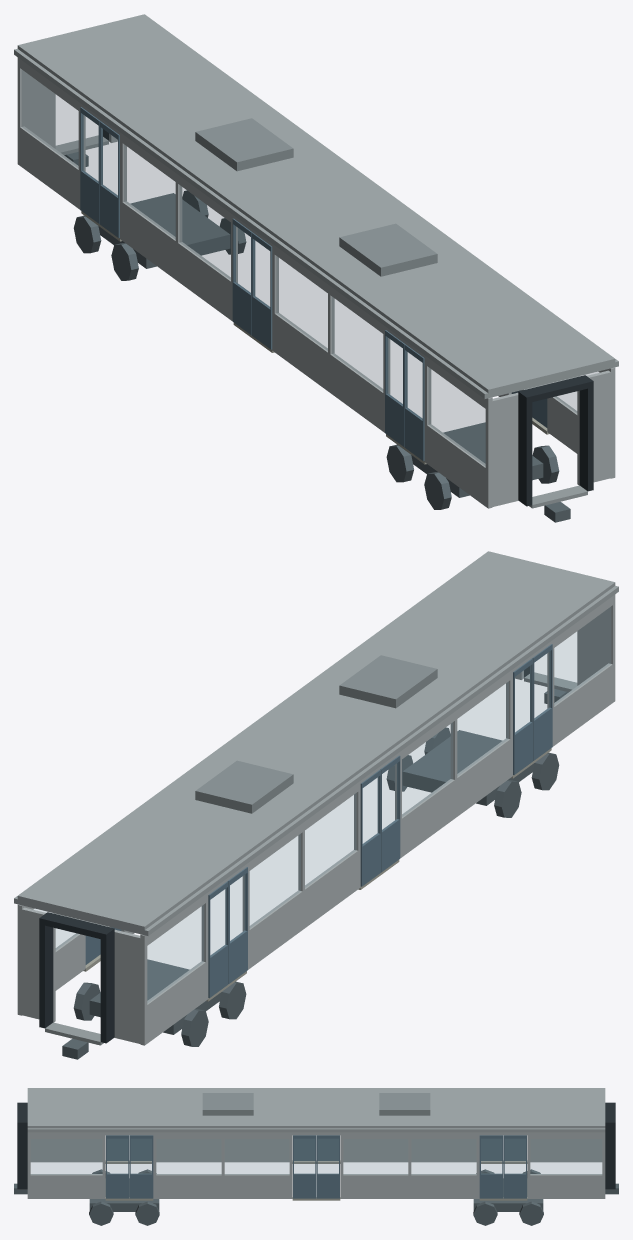
The model's file is expo-metro-middle-exterior.lod1.glb.
3 renders of one model, top to bottom at view 1: azimuth 30°, elevation 25°; view 2: azimuth 150°, elevation 25°; view 3: azimuth 270°, elevation 25°, orthographic. The views are drawn at different scales.
Visible parts, largest first — view 1: body-shell, glass, bogie-rear-frame, door-right-center-b, door-right-front-b, door-right-rear-b, door-right-center-a, door-right-rear-a, door-right-front-a, bogie-front-frame, wheel-front-front-right, wheel-rear-front-right (+2 smaller); view 2: body-shell, glass, bogie-front-frame, door-right-center-a, door-right-rear-a, door-right-front-a, door-right-center-b, door-right-front-b, door-right-rear-b, bogie-rear-frame, wheel-front-rear-right, wheel-rear-rear-right (+2 smaller); view 3: body-shell, glass, door-left-front-a, door-left-rear-b, door-left-center-a, door-left-center-b, door-left-front-b, door-left-rear-a, bogie-front-frame, bogie-rear-frame, door-right-center-a, door-right-center-b (+8 smaller).
Boxes of the visible parts, x1,y1,x2,y2 form: body-shell: (14,14,618,522); glass: (22,70,598,465); bogie-rear-frame: (98,193,230,268); door-right-center-b: (252,232,272,349); door-right-front-b: (404,344,424,461); door-right-rear-b: (99,121,119,237); door-right-center-a: (232,218,252,335); door-right-rear-a: (80,107,100,223); door-right-front-a: (385,330,404,446); bogie-front-frame: (411,422,543,497); wheel-front-front-right: (424,472,451,509); wheel-rear-front-right: (111,243,138,280); body-shell: (14,551,618,1059); glass: (34,607,610,1002); bogie-front-frame: (402,730,534,805); door-right-center-a: (360,769,380,886); door-right-rear-a: (208,881,228,998); door-right-front-a: (513,658,533,774); door-right-center-b: (380,755,400,872); door-right-front-b: (532,644,552,760); door-right-rear-b: (228,867,247,983); bogie-rear-frame: (89,959,221,1034); wheel-front-rear-right: (494,780,521,817); wheel-rear-rear-right: (181,1009,208,1046); body-shell: (14,1088,618,1200); glass: (31,1139,601,1174); door-left-front-a: (129,1135,153,1198); door-left-rear-b: (479,1135,503,1198); door-left-center-a: (316,1135,339,1198); door-left-center-b: (293,1135,316,1198); door-left-front-b: (106,1135,129,1198); door-left-rear-a: (503,1135,526,1198); bogie-front-frame: (89,1178,159,1211); bogie-rear-frame: (473,1178,543,1211); door-right-center-a: (317,1138,338,1160); door-right-center-b: (294,1138,315,1160).
Bounding box in the file's own units: 2.8 × 3.48 × 17.8.
